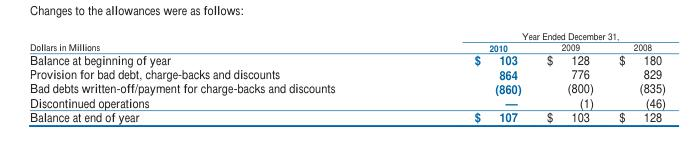table: (28, 29, 665, 125)
table column: (28, 29, 404, 125), (404, 29, 533, 125), (533, 29, 605, 125), (605, 29, 665, 125)
table column header: (28, 29, 665, 52)
table row: (28, 109, 665, 125), (28, 94, 665, 109), (28, 52, 665, 66), (28, 66, 665, 80), (28, 80, 665, 94), (28, 29, 665, 41), (28, 41, 665, 52)
table spanning cell: (28, 29, 404, 52), (404, 29, 665, 41)
